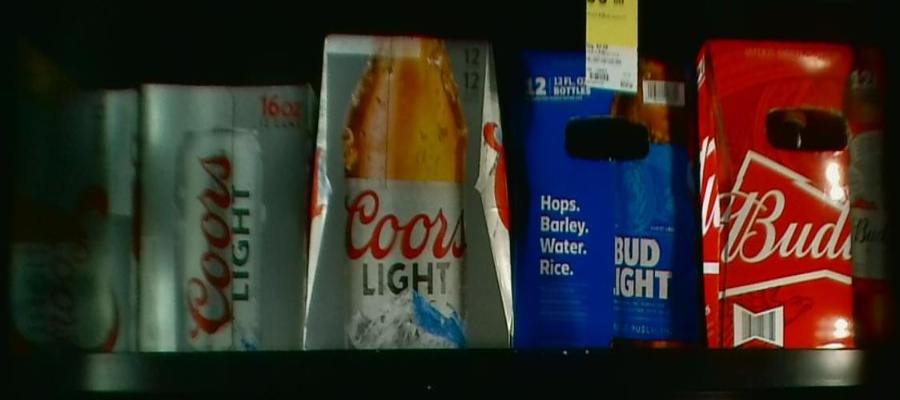bottle: (311, 34, 512, 349), (701, 41, 888, 353), (512, 48, 705, 349), (139, 82, 311, 351), (2, 88, 137, 351)
